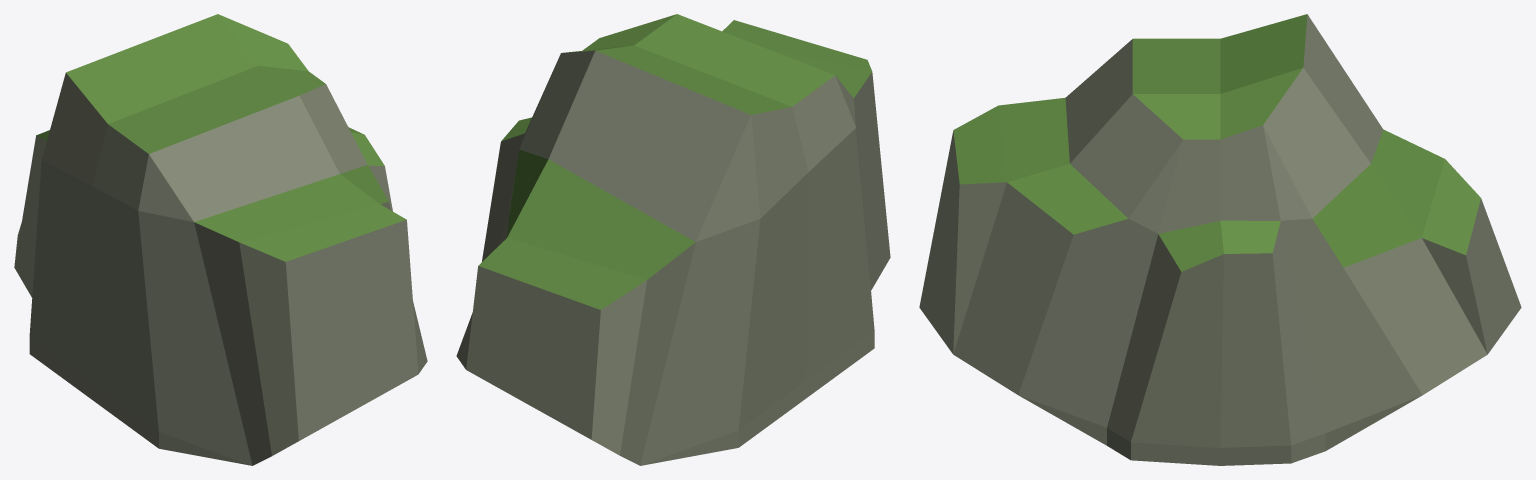
File: mossrock_rock_moss_4.glb
3 views of the same model, side by side, from view 1: azimuth 30°, elevation 25°; view 2: azimuth 150°, elevation 25°; view 3: azimuth 270°, elevation 25° (orthographic). The views are drawn at different scales.
Parts seen in each view (by area): view 1: Rock_Moss_4_Cube.023; view 2: Rock_Moss_4_Cube.023; view 3: Rock_Moss_4_Cube.023.
Part boxes in pixels (x1=…): Rock_Moss_4_Cube.023: x1=14, y1=14, x2=427, y2=465; Rock_Moss_4_Cube.023: x1=456, y1=14, x2=890, y2=465; Rock_Moss_4_Cube.023: x1=919, y1=14, x2=1521, y2=465.
Bounding box in the file's own units: 1.52 × 1.6 × 2.55.
